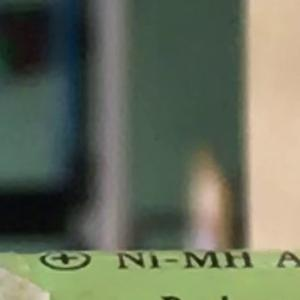NI-MH: (107, 242, 262, 279)
